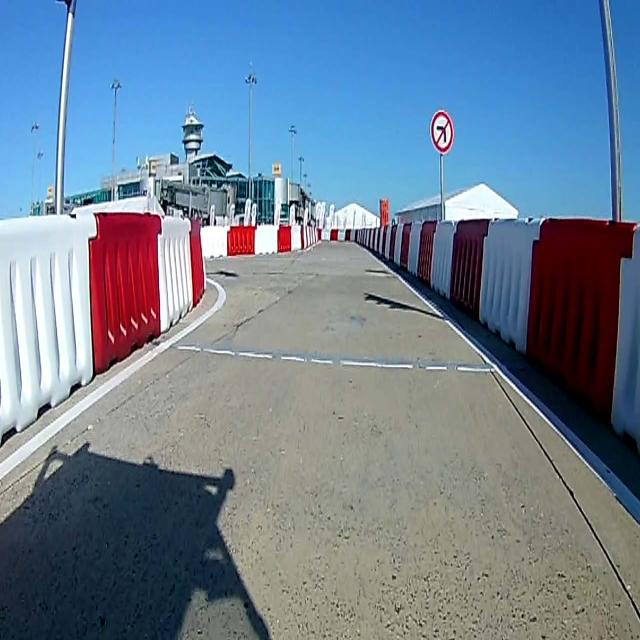soladonulmez: (431, 111, 453, 153)
